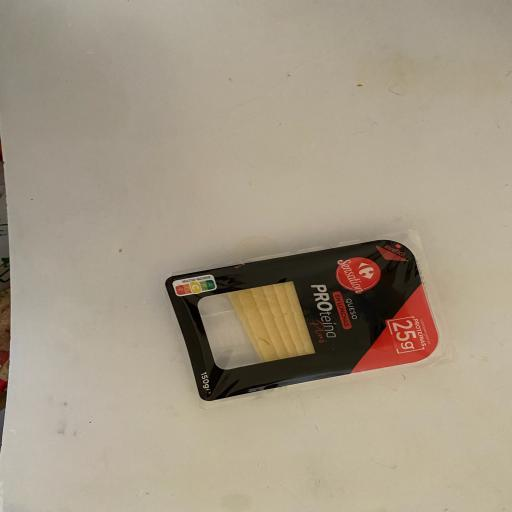cheese: (132, 224, 470, 393)
